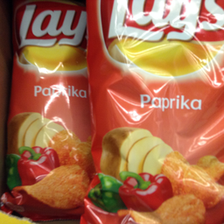chips: (86, 1, 224, 223), (6, 3, 88, 218)
